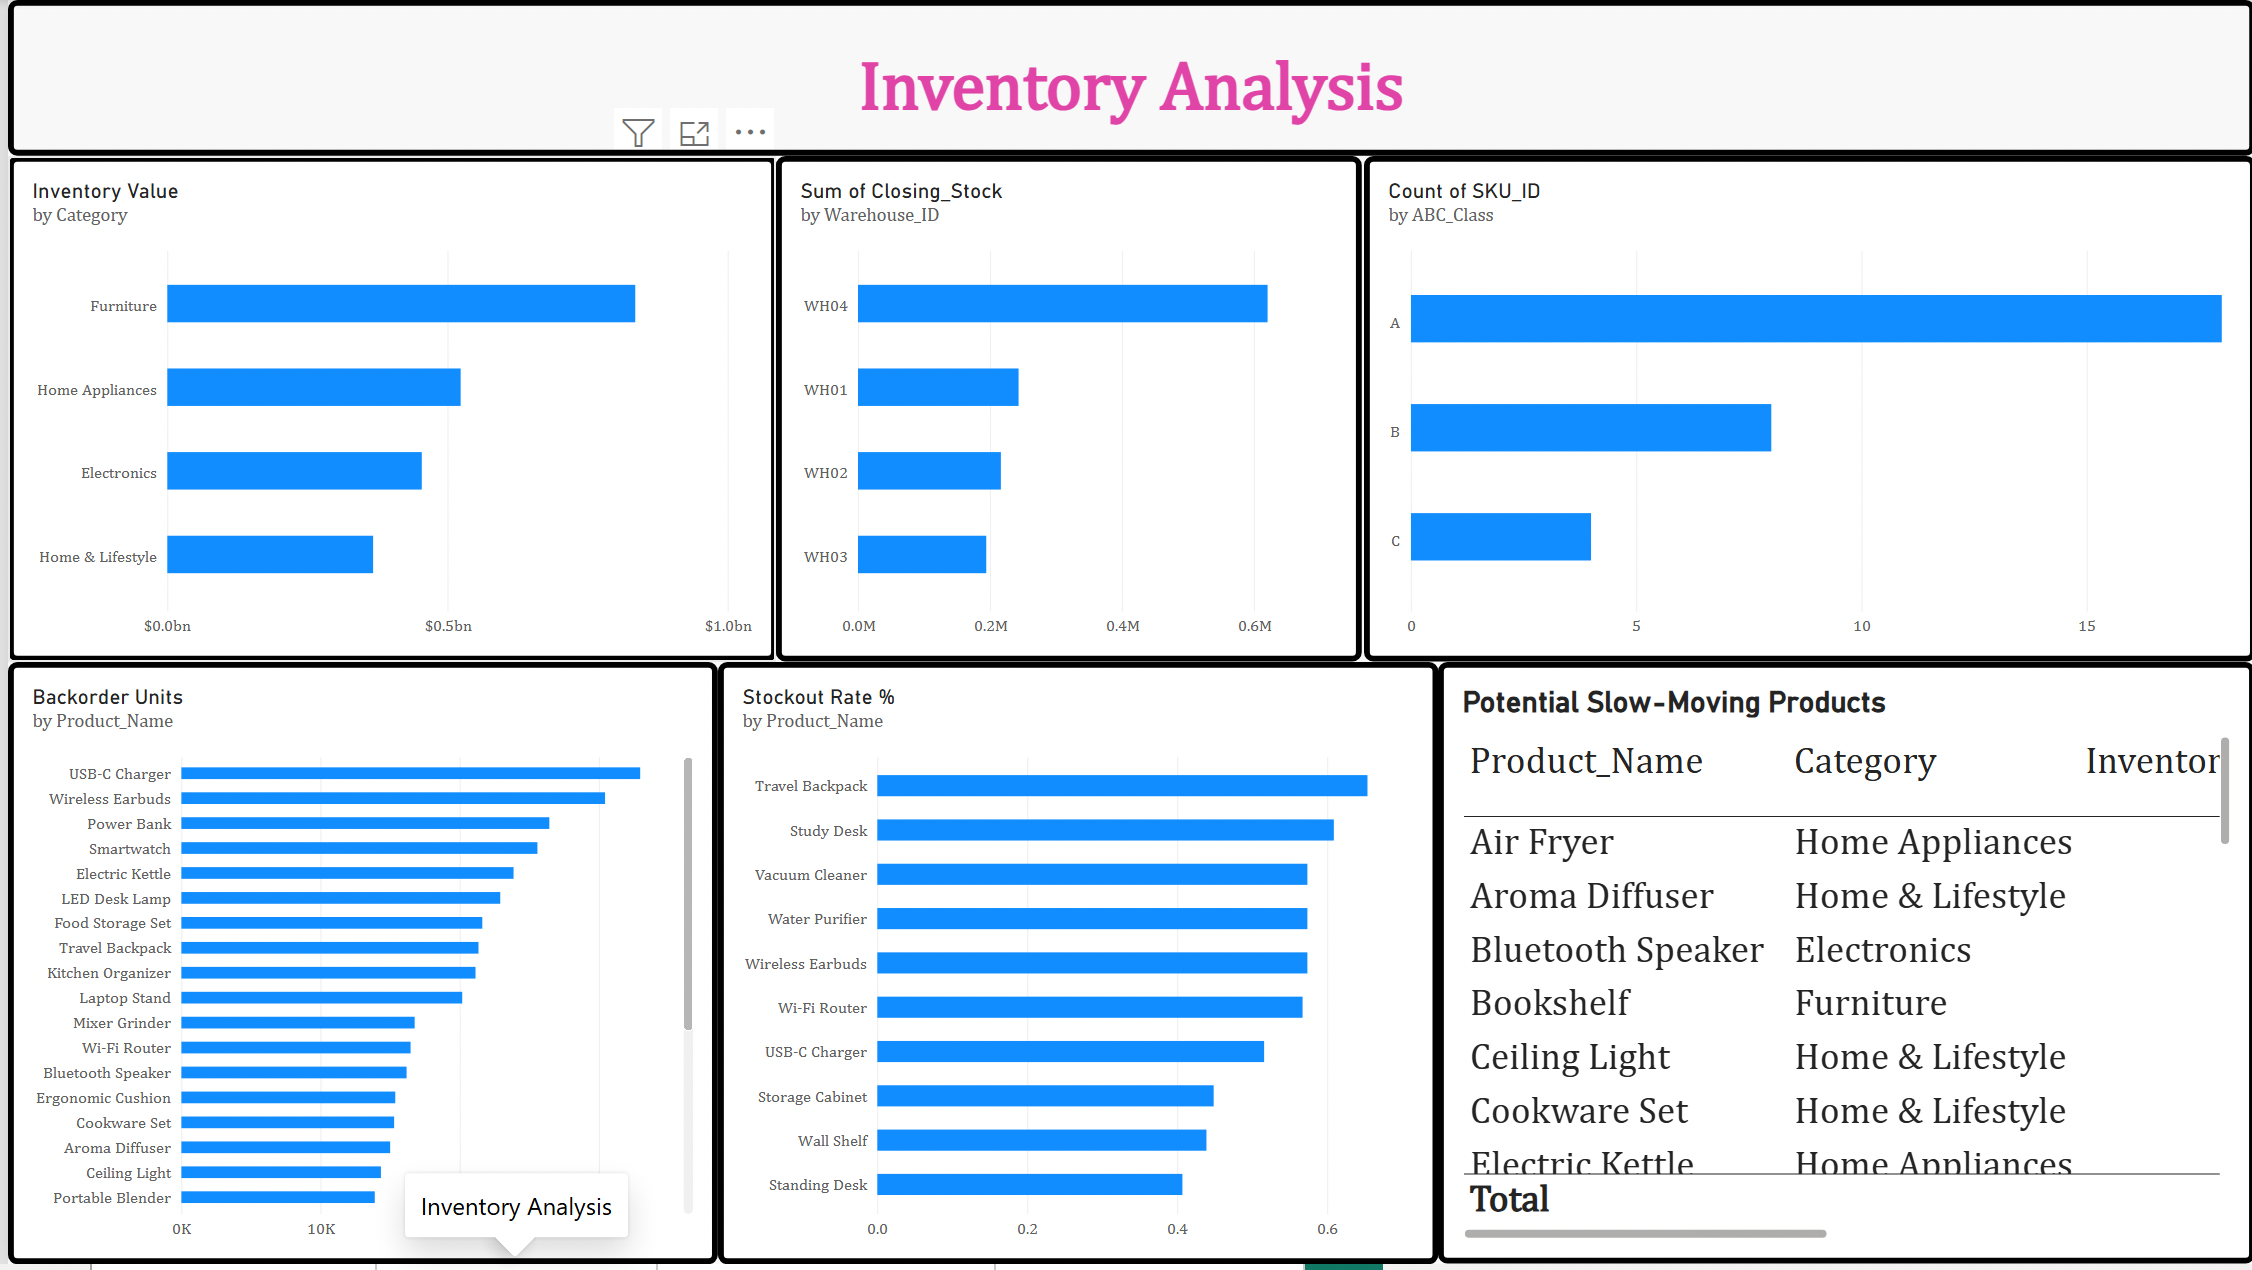

The page's visual inventory and layout, read from the dashboard file:
{"tool":"powerbi","page":{"name":"Inventory Analysis","canvas":[1920,1080],"ordinal":1},"visuals":[{"type":"barChart","fields":{"Category":["Product_Master.Category"],"Y":["inventory_snapshots.Inventory Value"]},"box":[0,133.2,656.8,431.8],"z":0},{"type":"textbox","box":[0,0,1920,133.2],"z":1000},{"type":"barChart","fields":{"Category":["Product_Master.Product_Name"],"Y":["Product_Master.Stockout Rate %"]},"box":[606.3,565,615.5,514.4],"z":2000},{"type":"barChart","fields":{"Category":["Product_Master.Product_Name"],"Y":["inventory_snapshots.Backorder Units"]},"box":[0,565,606.3,514.4],"z":3000},{"type":"barChart","fields":{"Category":["Warehouse_Master.Warehouse_ID"],"Y":["Sum(inventory_snapshots.Closing_Stock)"]},"box":[656.8,133.2,500.7,431.8],"z":4000},{"type":"barChart","fields":{"Category":["ABC_Classification.ABC_Class"],"Y":["CountNonNull(ABC_Classification.SKU_ID)"]},"box":[1158,133,762,432],"z":4001},{"type":"tableEx","title":"Potential Slow-Moving Products","fields":{"Values":["Product_Master.Product_Name","Product_Master.Category","Product_Master.Inventory Sales Qty","Product_Master.Average Closing Stock","inventory_snapshots.Inventory Value"]},"box":[1221.8,565,698,514],"z":4002}]}

Visuals, with their boxes in screenshot pixels (x1, y1, x2, y2):
barChart - Product_Master.Category x inventory_snapshots.Inventory Value: BBox(12, 154, 771, 654)
textbox: BBox(12, 0, 2233, 154)
barChart - Product_Master.Product_Name x Product_Master.Stockout Rate %: BBox(713, 654, 1425, 1249)
barChart - Product_Master.Product_Name x inventory_snapshots.Backorder Units: BBox(12, 654, 713, 1249)
barChart - Warehouse_Master.Warehouse_ID x Sum(inventory_snapshots.Closing_Stock): BBox(771, 154, 1351, 654)
barChart - ABC_Classification.ABC_Class x CountNonNull(ABC_Classification.SKU_ID): BBox(1351, 154, 2233, 654)
"Potential Slow-Moving Products" tableEx: BBox(1425, 654, 2232, 1248)
